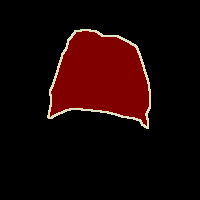hat: (48, 29, 150, 128)
